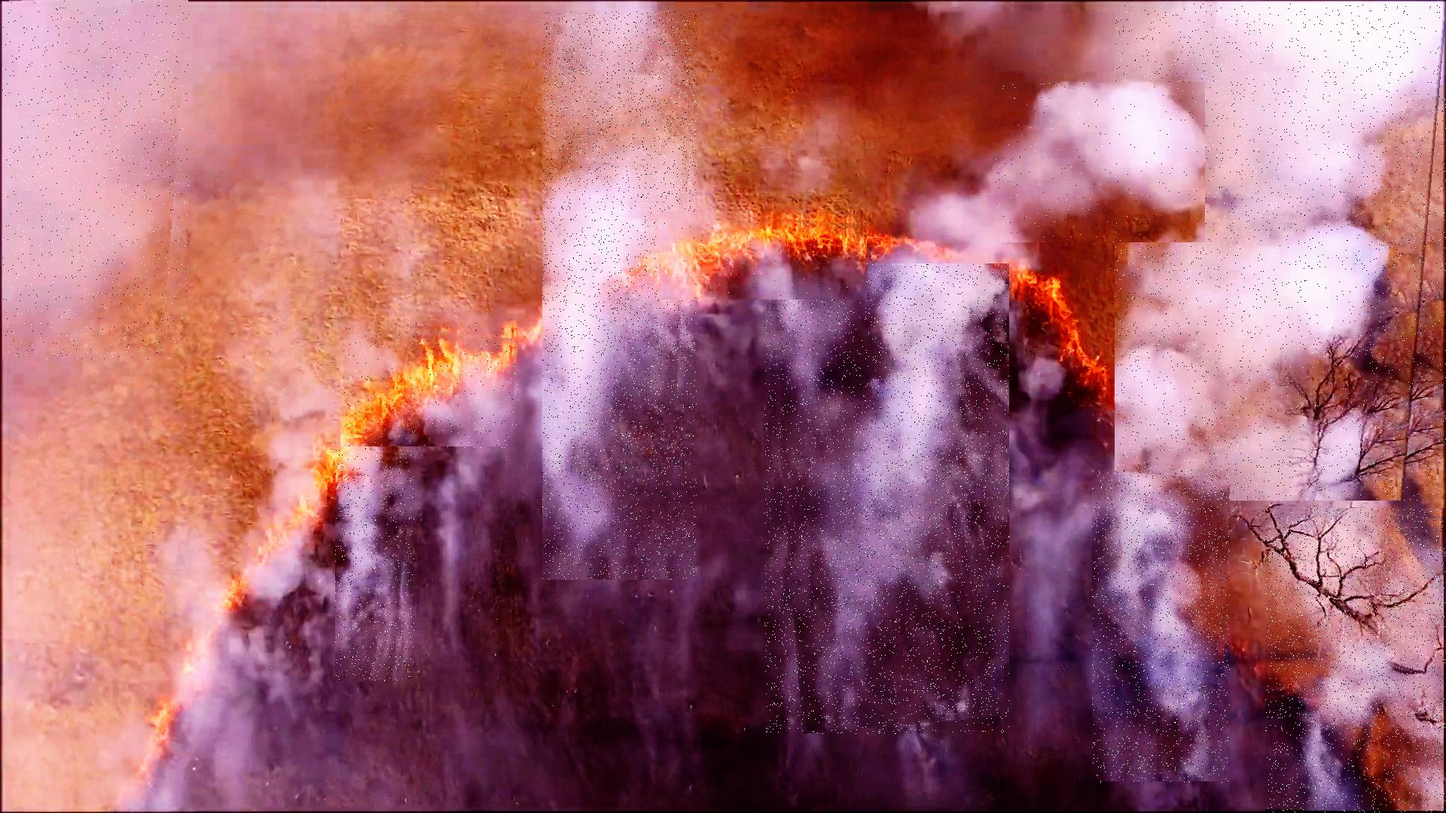fire: (341, 321, 520, 449), (658, 212, 867, 300)
smoke: (1115, 4, 1446, 501), (764, 263, 1009, 734), (542, 11, 697, 580), (2, 0, 189, 360), (1266, 509, 1446, 813), (1092, 470, 1230, 784), (993, 83, 1205, 245), (335, 448, 414, 681)
